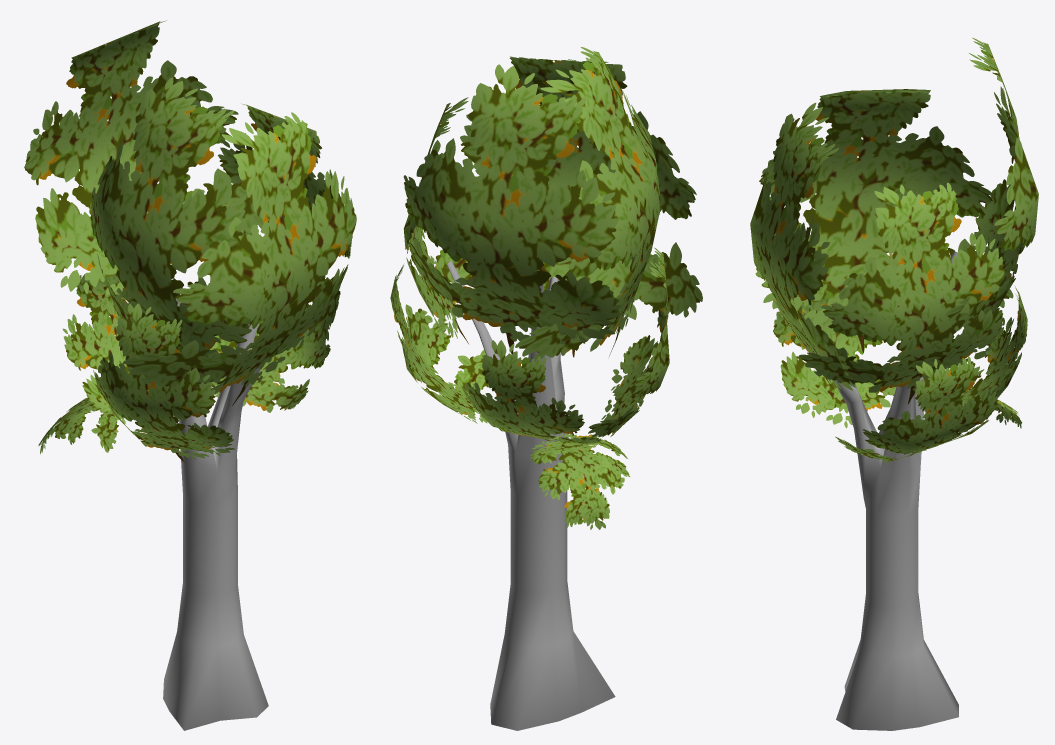
Rendered from SM_Tree_02.fbx.
The picture shows the model from 3 angles, left to right: view 1: azimuth 30°, elevation 25°; view 2: azimuth 150°, elevation 25°; view 3: azimuth 270°, elevation 25°; orthographic projection. The views are drawn at different scales.
Parts seen in each view (by area): view 1: SM_Tree_02; view 2: SM_Tree_02; view 3: SM_Tree_02.
Boxes of the visible parts, box(x1,y1,x2,y2) form: SM_Tree_02: box(24, 20, 356, 730); SM_Tree_02: box(390, 47, 702, 730); SM_Tree_02: box(750, 37, 1038, 730).
Bounding box in the file's own units: 753 × 1658 × 701.
